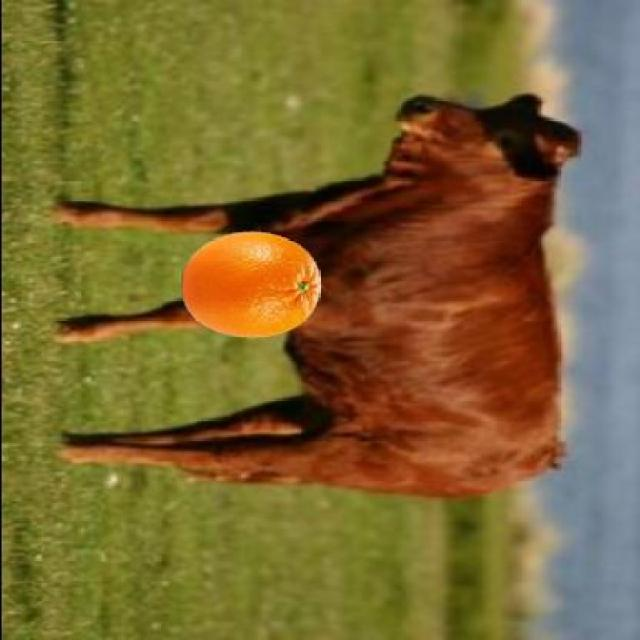Orange: (178, 228, 322, 338)
